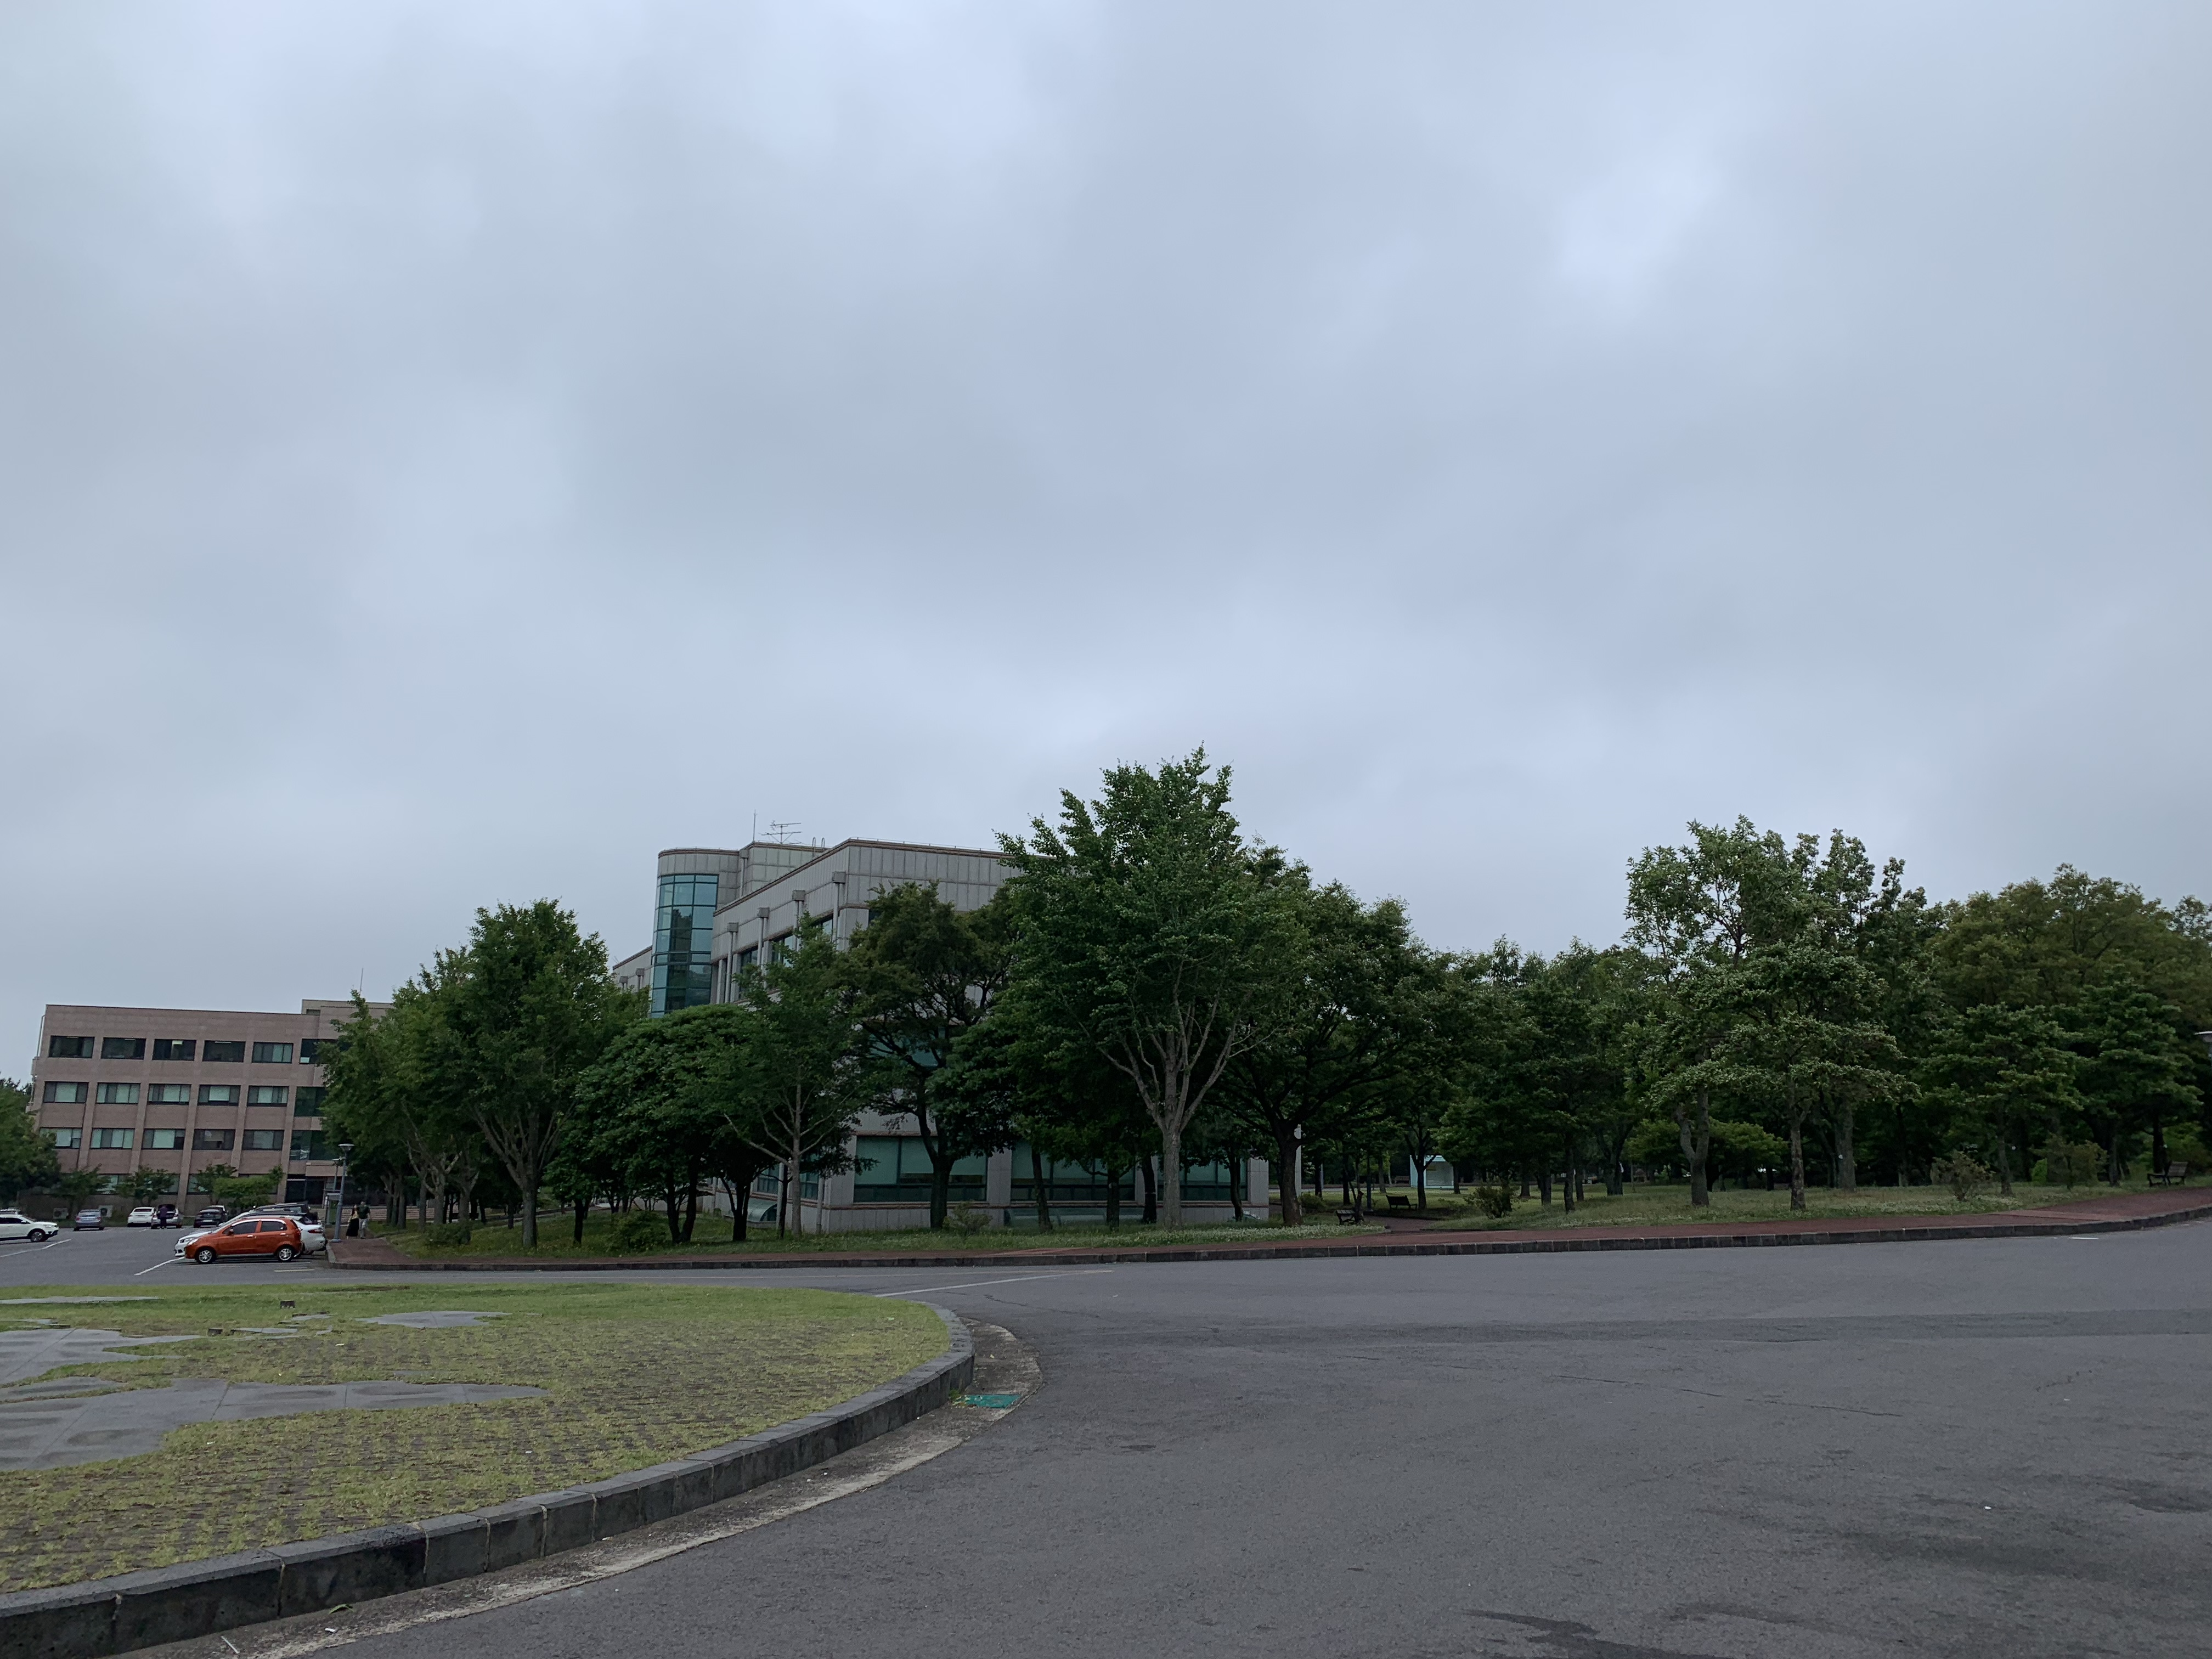Joint Experimental Labs: (31, 990, 423, 1227)
Second Library: (613, 824, 1040, 1002), (829, 1114, 1277, 1249)
